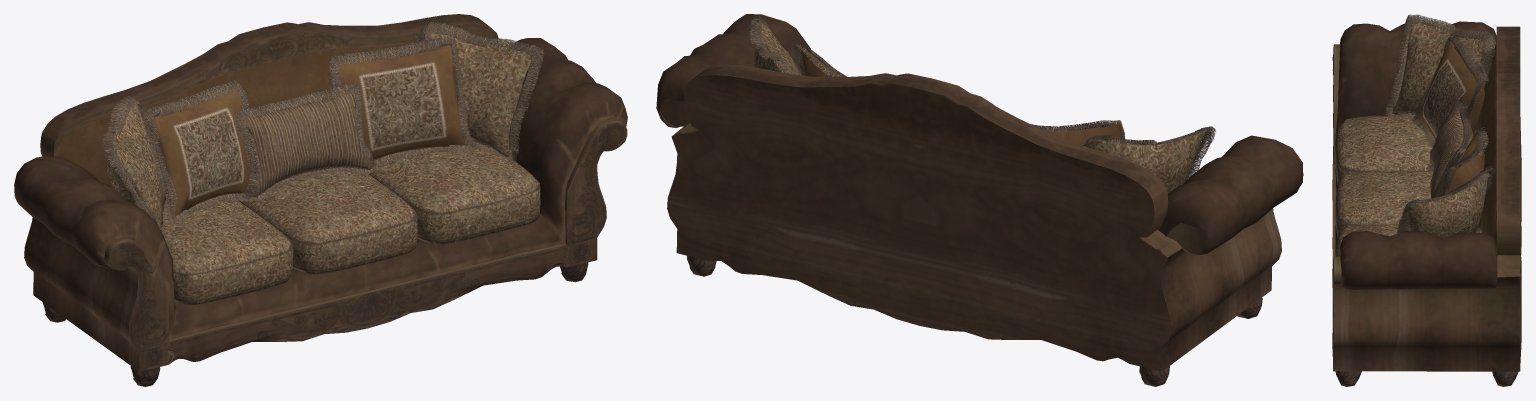
The model's file is sofa_03.glb.
3 renders of one model, left to right at view 1: azimuth 30°, elevation 25°; view 2: azimuth 150°, elevation 25°; view 3: azimuth 270°, elevation 25°, orthographic. The views are drawn at different scales.
Visible parts, largest first — view 1: sofa_03; view 2: sofa_03; view 3: sofa_03.
Boxes of the visible parts, <box> form: sofa_03: <box>14,14,627,386</box>; sofa_03: <box>656,14,1303,386</box>; sofa_03: <box>1332,14,1521,386</box>.
Size of the model in its own units: 3 by 1.23 by 1.02.
2 materials, 2 textured.
